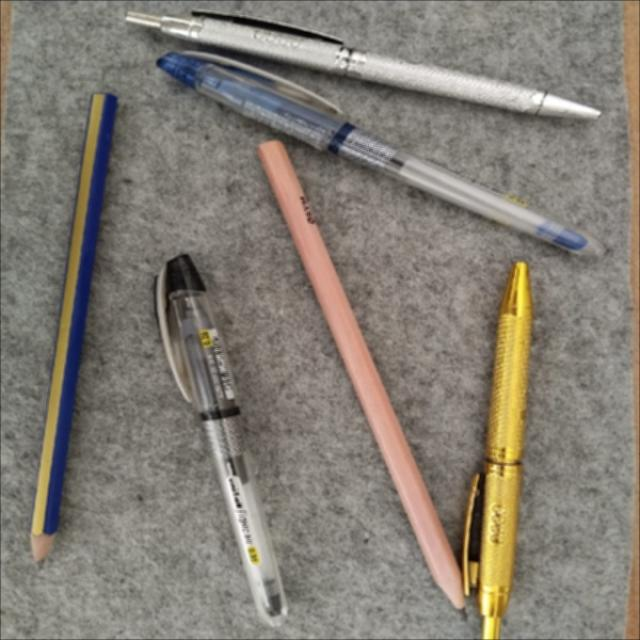pen: (159, 48, 613, 262), (162, 259, 282, 623)
pencil: (250, 139, 469, 617), (25, 94, 115, 561)
signature pen: (127, 6, 605, 126), (461, 262, 531, 639)
